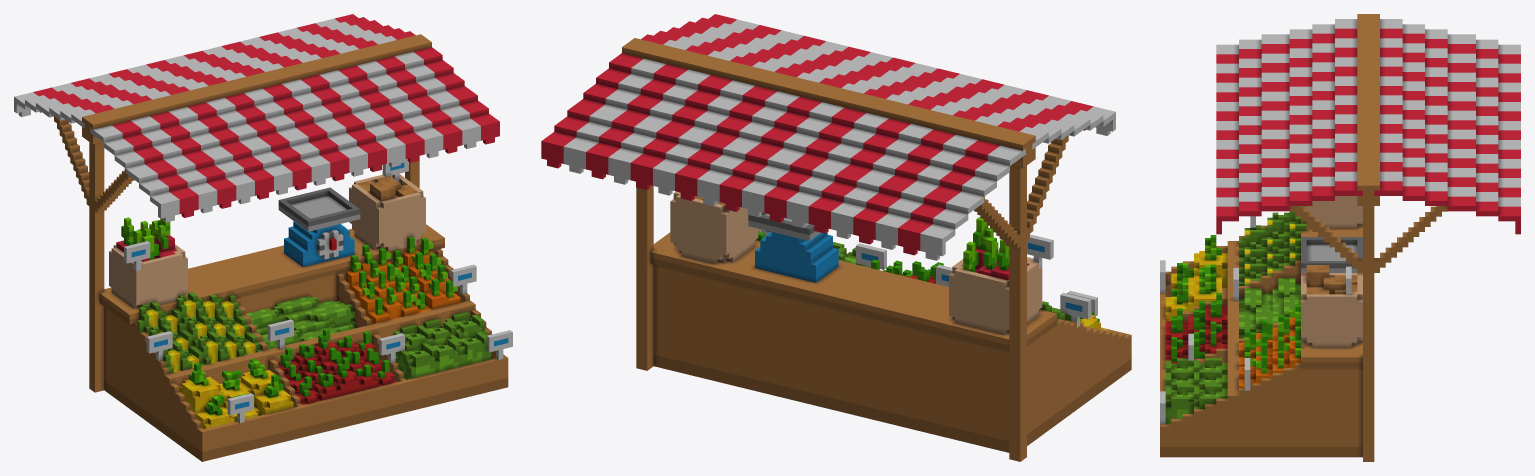
File: store6.glb
3 renders of one model, left to right at view 1: azimuth 30°, elevation 25°; view 2: azimuth 150°, elevation 25°; view 3: azimuth 270°, elevation 25°, orthographic. The views are drawn at different scales.
Visible parts, largest first — view 1: __playground; view 2: __playground; view 3: __playground.
Part boxes in pixels (x1,y1,x2,y2): __playground: (14,14,512,461); __playground: (541,14,1131,461); __playground: (1160,14,1520,461).
Bounding box in the file's own units: 2.16 × 1.65 × 1.92.
